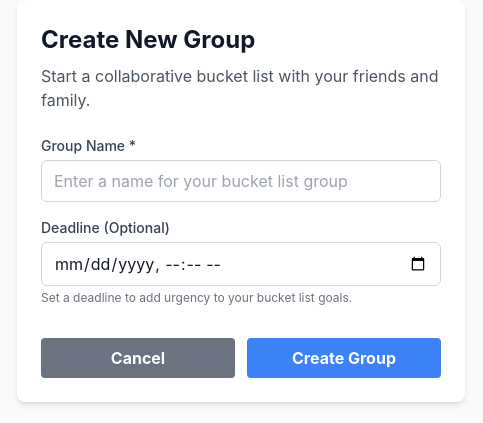
Test: CreateGroupForm › shows loading state during submission
In the field labelled "Group Name *": (241, 181) x1=41 y1=160 x2=441 y2=202, type "Test Group"
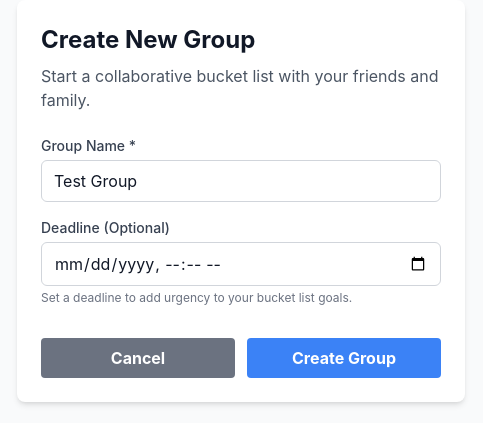
Click the button "Create Group": (344, 358) x1=247 y1=338 x2=441 y2=378
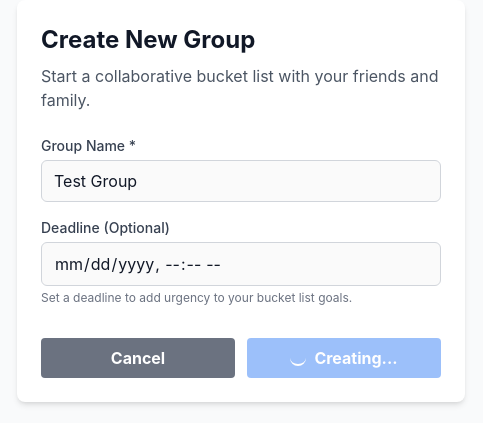
Check: the text "Creating..." is shown, box x1=290 y1=348 x2=398 y2=368
Check: the button named "Create Group" is disabled, box x1=247 y1=338 x2=441 y2=378
